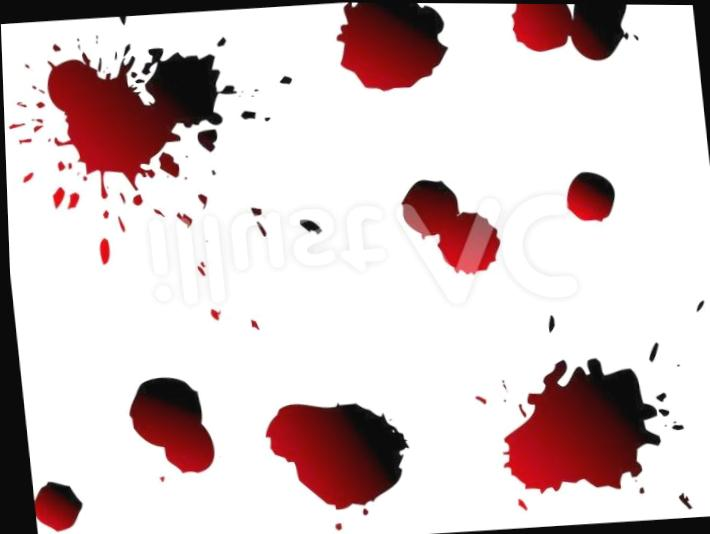Fire: (46, 48, 235, 200), (498, 358, 657, 495), (261, 403, 405, 510), (335, 2, 447, 91), (399, 179, 498, 275), (125, 377, 210, 474), (510, 3, 627, 60), (564, 171, 613, 221), (30, 483, 78, 532)
